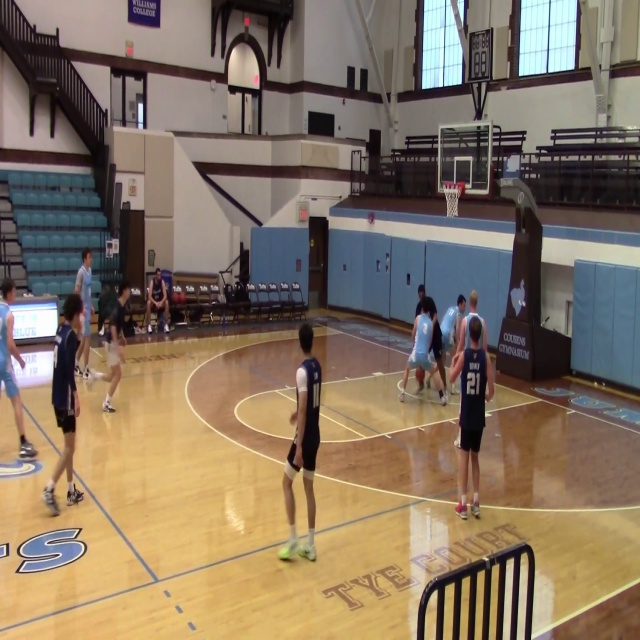Basketball: (415, 368, 424, 381)
